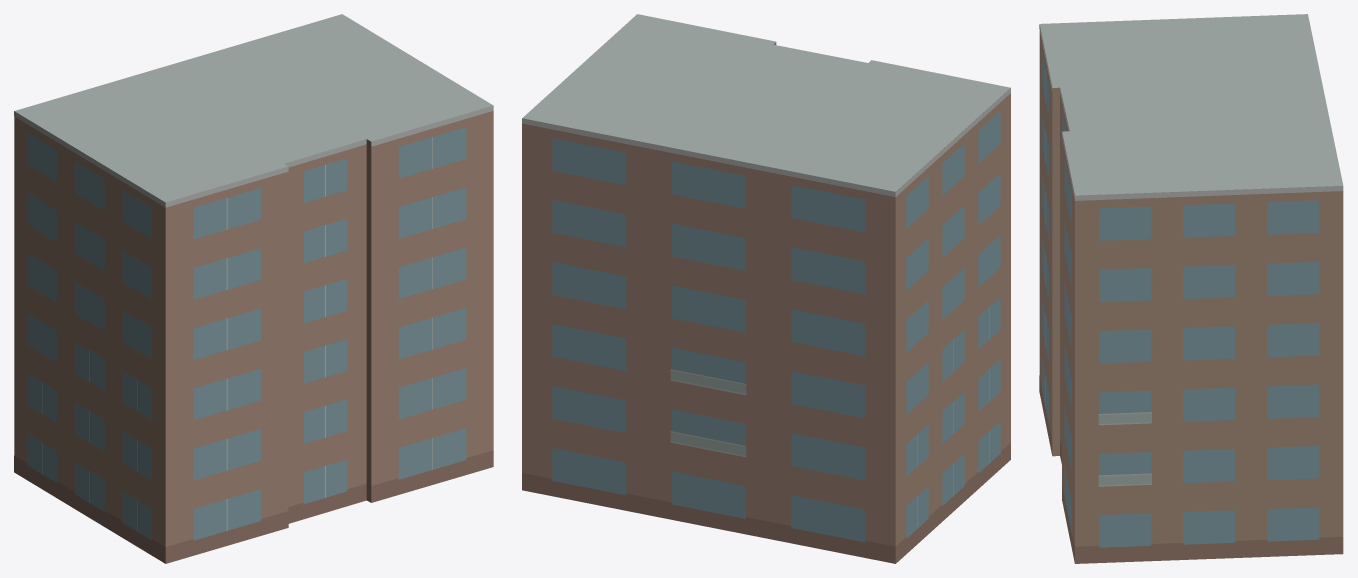
The model's file is survey-upis-32725686.glb.
The picture shows the model from 3 angles, left to right: view 1: azimuth 30°, elevation 25°; view 2: azimuth 150°, elevation 25°; view 3: azimuth 270°, elevation 25°; orthographic projection. The views are drawn at different scales.
Parts seen in each view (by area): view 1: survey-upis-32725686.tmp; view 2: survey-upis-32725686.tmp; view 3: survey-upis-32725686.tmp.
Part boxes in pixels (x1,y1,x2,y2): survey-upis-32725686.tmp: (14,14,493,563); survey-upis-32725686.tmp: (522,14,1010,563); survey-upis-32725686.tmp: (1039,14,1343,563).
Size of the model in its own units: 18.15 by 17.15 by 12.84.
